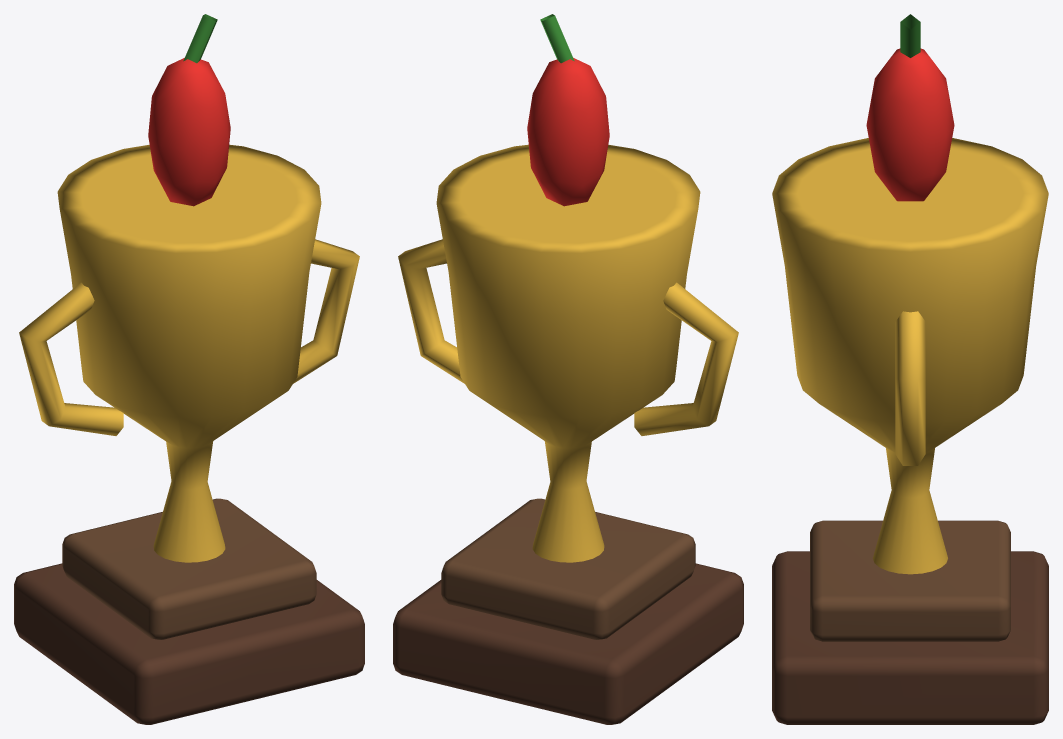
The model's file is furn_trophy_hot.glb.
3 views of the same model, side by side, from view 1: azimuth 30°, elevation 25°; view 2: azimuth 150°, elevation 25°; view 3: azimuth 270°, elevation 25° (orthographic). The views are drawn at different scales.
Parts seen in each view (by area): view 1: furn_trophy_hot_gloss, furn_trophy_hot_main; view 2: furn_trophy_hot_gloss, furn_trophy_hot_main; view 3: furn_trophy_hot_gloss, furn_trophy_hot_main.
Boxes of the visible parts, bbox=[...] form: furn_trophy_hot_gloss: bbox=[19, 144, 359, 562]; furn_trophy_hot_main: bbox=[14, 14, 364, 724]; furn_trophy_hot_gloss: bbox=[398, 144, 738, 562]; furn_trophy_hot_main: bbox=[393, 14, 743, 724]; furn_trophy_hot_gloss: bbox=[772, 138, 1048, 574]; furn_trophy_hot_main: bbox=[772, 14, 1048, 724].
Bounding box in the file's own units: 0.3194 × 0.5836 × 0.22.
